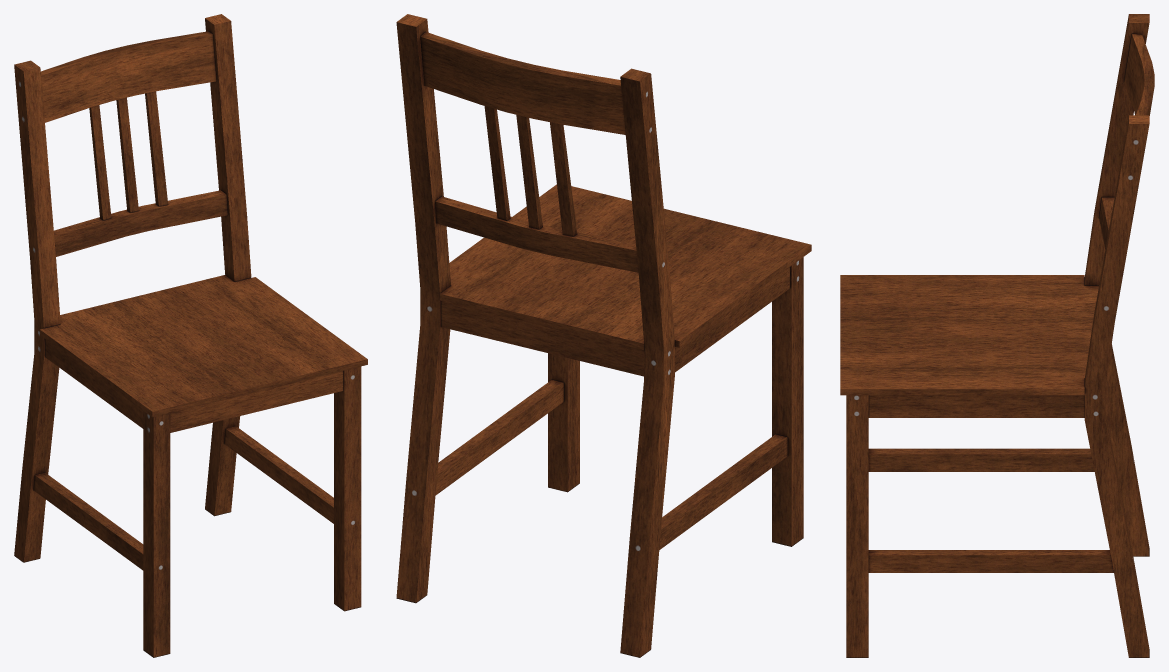
The model's file is chair.glb.
3 renders of one model, left to right at view 1: azimuth 30°, elevation 25°; view 2: azimuth 150°, elevation 25°; view 3: azimuth 270°, elevation 25°, orthographic. The views are drawn at different scales.
Visible parts, largest first — view 1: Chair_Chair_0; view 2: Chair_Chair_0; view 3: Chair_Chair_0.
Boxes of the visible parts, box(x1,y1,x2,y2) form: Chair_Chair_0: box(14, 14, 367, 657); Chair_Chair_0: box(396, 14, 811, 657); Chair_Chair_0: box(840, 14, 1154, 657).
Bounding box in the file's own units: 41.32 × 90 × 48.
1 material, 1 textured.
